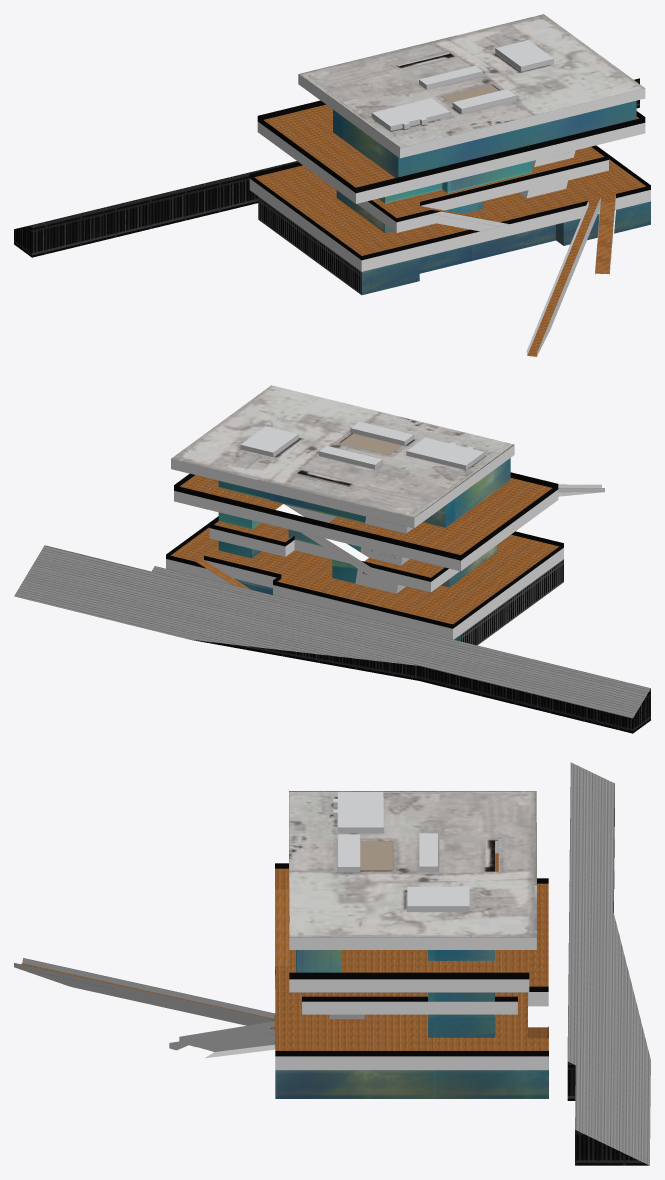
File: PIIE_AR_MO024_VELESEVENTS.fbx
The picture shows the model from 3 angles, top to bottom: view 1: azimuth 30°, elevation 25°; view 2: azimuth 150°, elevation 25°; view 3: azimuth 270°, elevation 25°; orthographic projection. The views are drawn at different scales.
Visible parts, largest first — view 1: PIIE_AR_MO024_VELESEVENTS; view 2: PIIE_AR_MO024_VELESEVENTS; view 3: PIIE_AR_MO024_VELESEVENTS.
Boxes of the visible parts, box(x1,y1,x2,y2) form: PIIE_AR_MO024_VELESEVENTS: box(14, 14, 650, 356); PIIE_AR_MO024_VELESEVENTS: box(14, 385, 650, 733); PIIE_AR_MO024_VELESEVENTS: box(14, 762, 650, 1165).
Size of the model in its own units: 70.44 by 15.1 by 52.13.
Materials: 1 (1 with a texture image).
